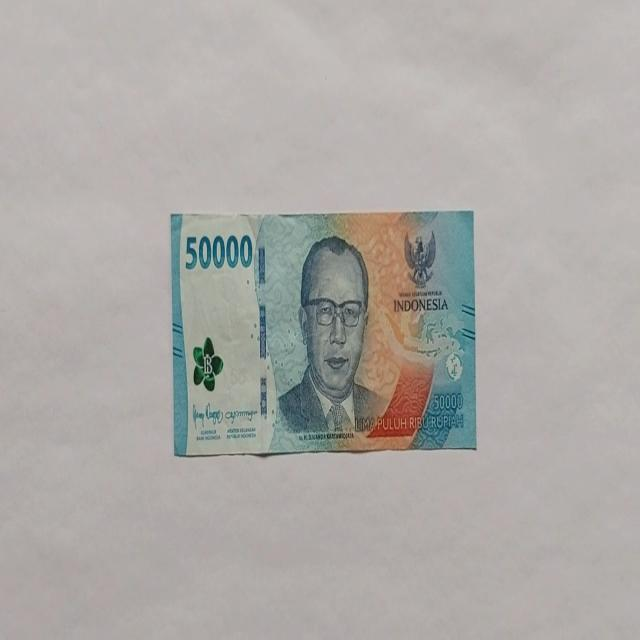lima puluh ribu rupiah: (170, 209, 476, 458), (274, 234, 391, 442)
